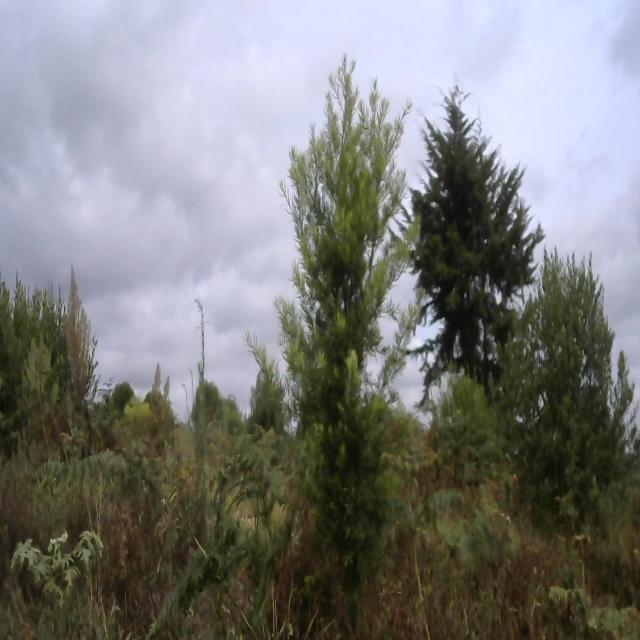Juniperus procesera: (411, 60, 545, 377)
Olea europea -africana-: (499, 244, 637, 516)
Podocarpus falcatus: (275, 64, 411, 608)
